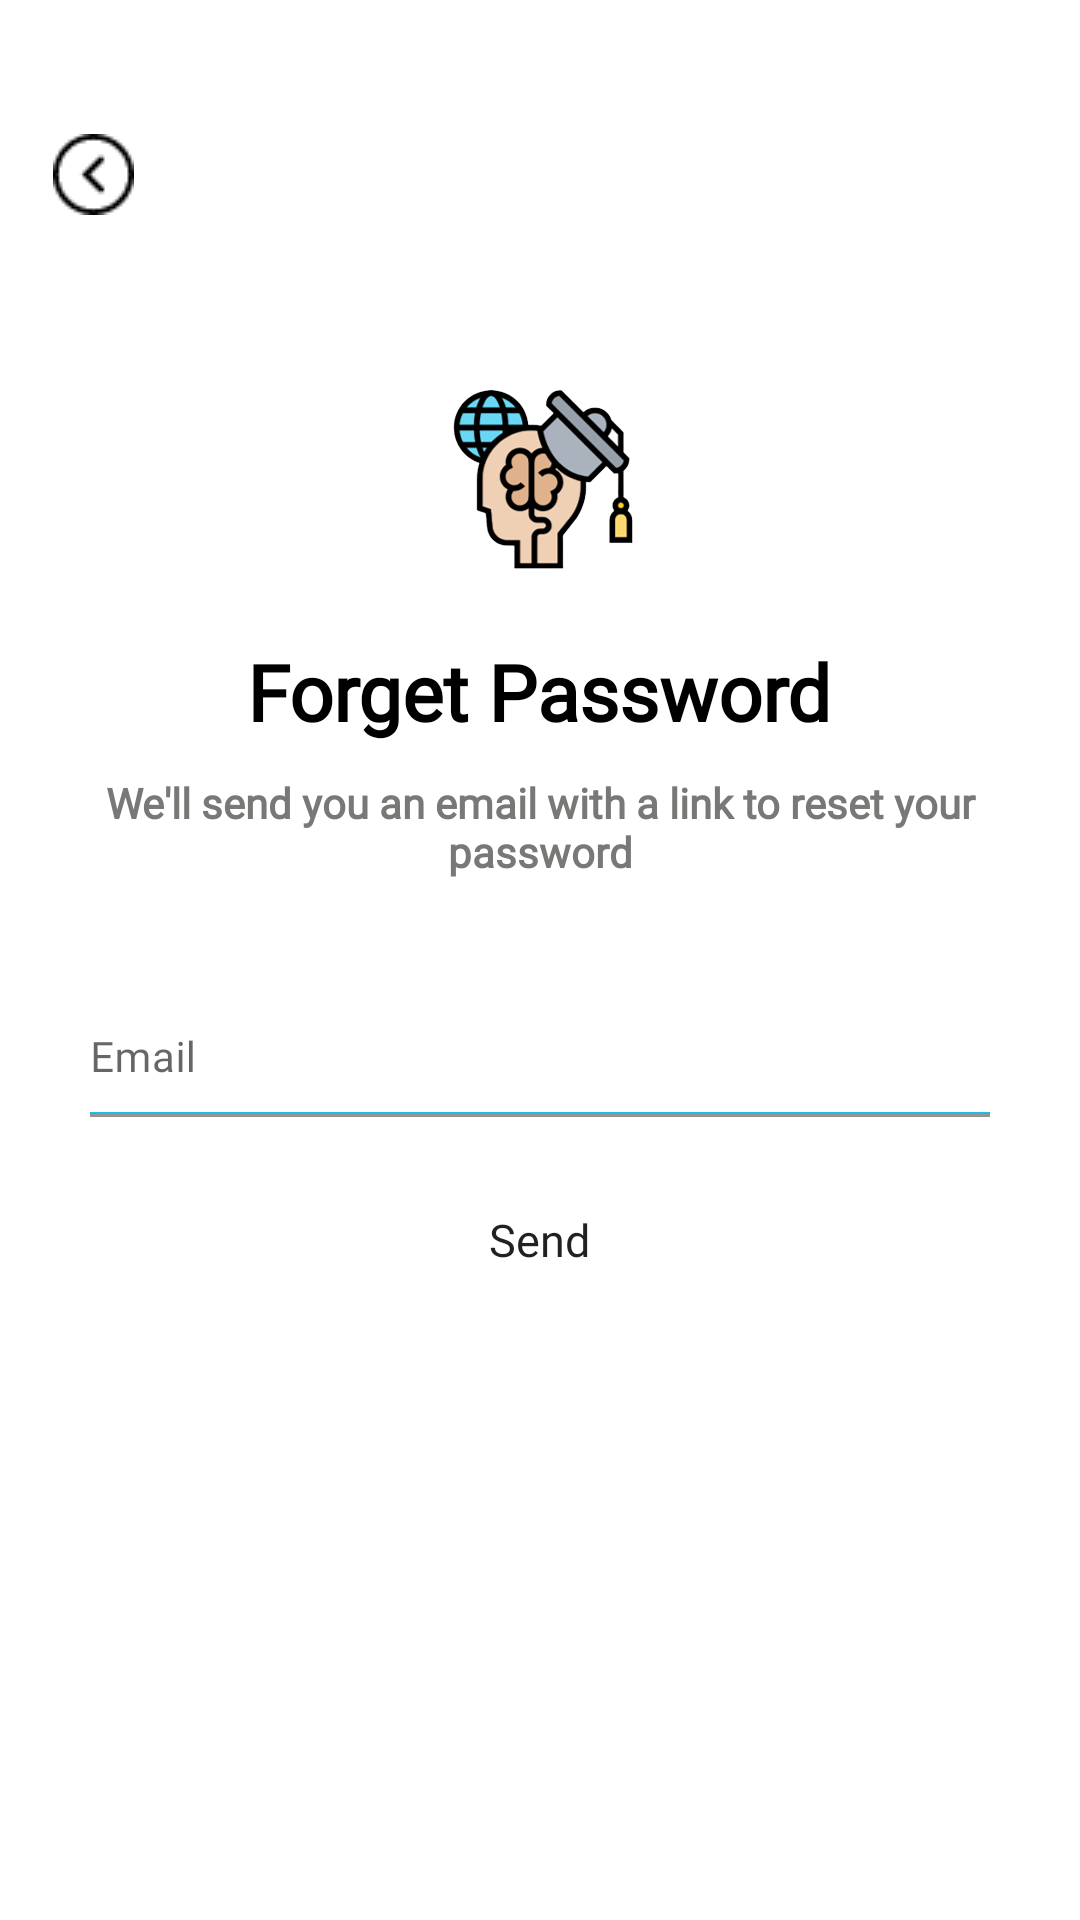

Icons on this 1080px x 1920px Android screen, each with its box as (x1, y1, x2, y2):
back: (53, 134, 134, 215)
